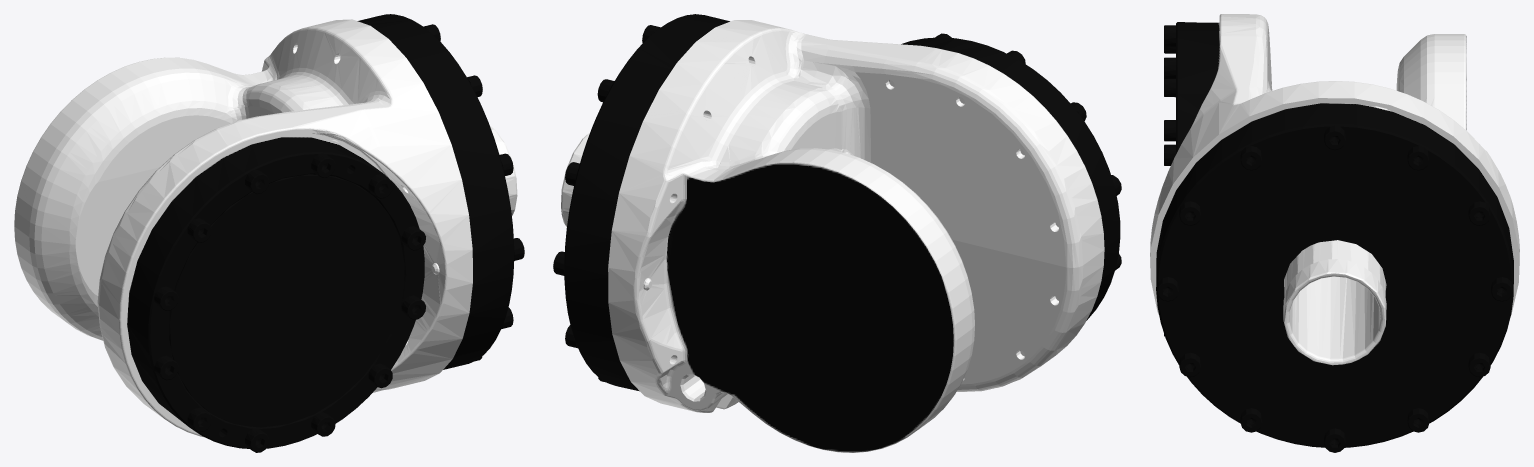
3 renders of one model, left to right at view 1: azimuth 30°, elevation 25°; view 2: azimuth 150°, elevation 25°; view 3: azimuth 270°, elevation 25°, orthographic. The views are drawn at different scales.
Parts seen in each view (by area): view 1: link_5; view 2: link_5; view 3: link_5.
Boxes of the visible parts, bbox=[...] form: link_5: bbox=[14, 14, 524, 452]; link_5: bbox=[553, 14, 1121, 452]; link_5: bbox=[1150, 14, 1519, 452].
Bounding box in the file's own units: 0.1243 × 0.093 × 0.093.
1 material, 1 textured.
